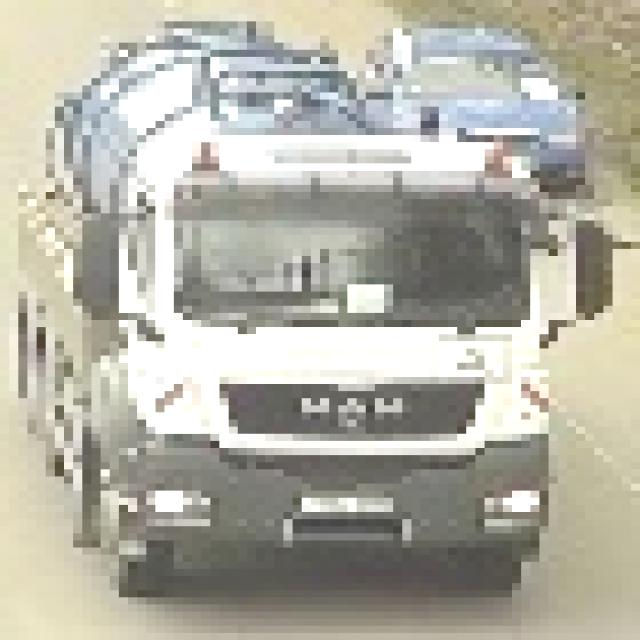truck: (1, 8, 604, 591)
